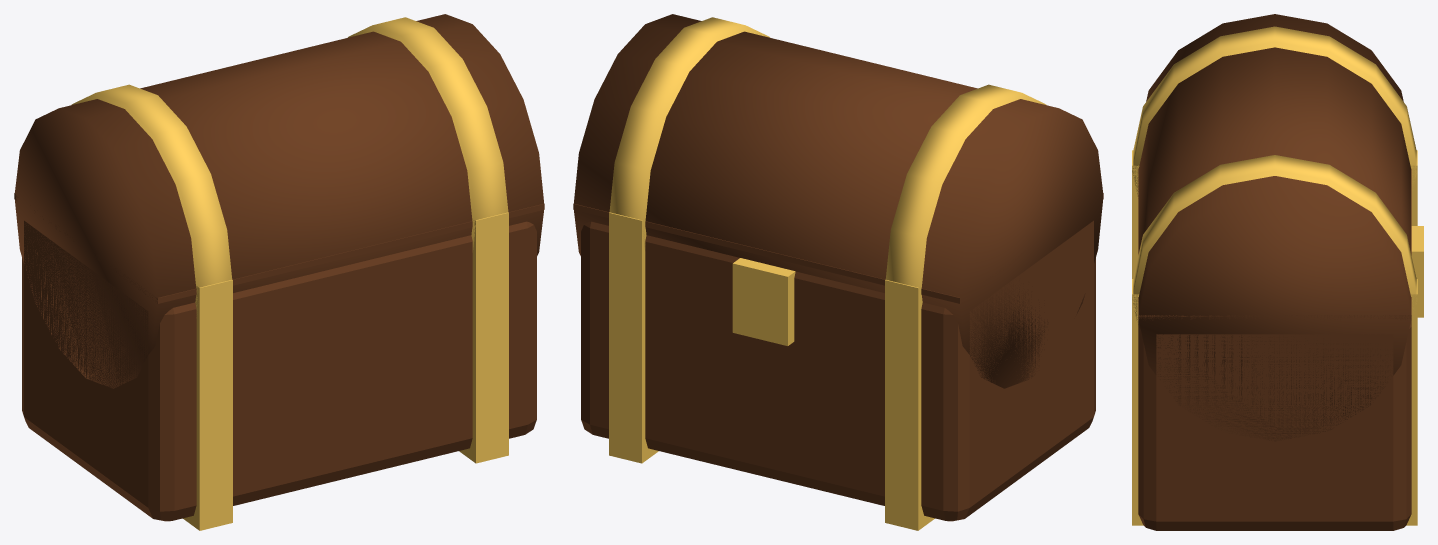
Rendered from chest.glb.
3 renders of one model, left to right at view 1: azimuth 30°, elevation 25°; view 2: azimuth 150°, elevation 25°; view 3: azimuth 270°, elevation 25°, orthographic. The views are drawn at different scales.
Parts seen in each view (by area): view 1: Lid, Body; view 2: Lid, Body; view 3: Lid, Body.
Boxes of the visible parts, x1,y1,x2,y2 form: Lid: (14, 14, 544, 388); Body: (22, 212, 536, 530); Lid: (573, 14, 1103, 388); Body: (581, 212, 1095, 530); Lid: (1132, 14, 1417, 441); Body: (1132, 150, 1423, 530).
Size of the model in its own units: 0.7 by 0.645 by 0.48.
